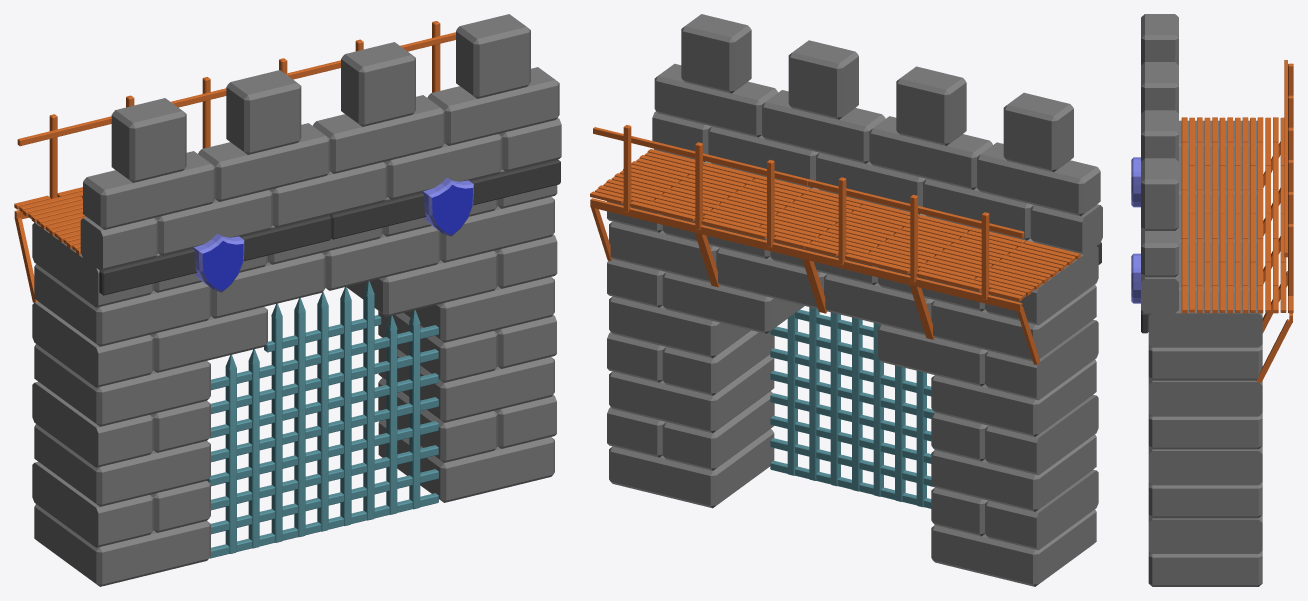
The model's file is Build_Castle_Gate_V1.fbx.
3 renders of one model, left to right at view 1: azimuth 30°, elevation 25°; view 2: azimuth 150°, elevation 25°; view 3: azimuth 270°, elevation 25°, orthographic. The views are drawn at different scales.
Parts seen in each view (by area): view 1: Block_Full_wall242, Gate_Horizontal_Beam000; view 2: Block_Full_wall242, Gate_Horizontal_Beam000; view 3: Block_Full_wall242.
Boxes of the visible parts, <box> form: Block_Full_wall242: <box>14,14,561,586</box>; Gate_Horizontal_Beam000: <box>207,281,438,558</box>; Block_Full_wall242: <box>590,14,1102,586</box>; Gate_Horizontal_Beam000: <box>770,307,934,508</box>; Block_Full_wall242: <box>1131,14,1293,586</box>.
Bounding box in the file's own units: 236 × 226 × 84.33.
